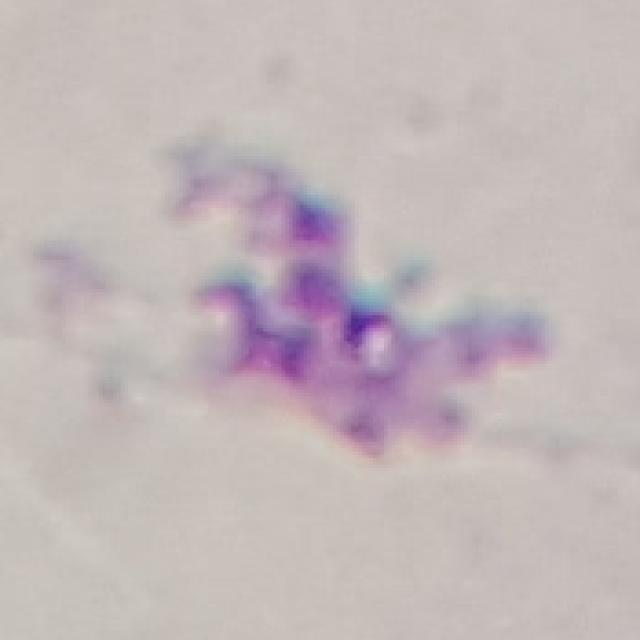non-sperm: (125, 119, 538, 469)
